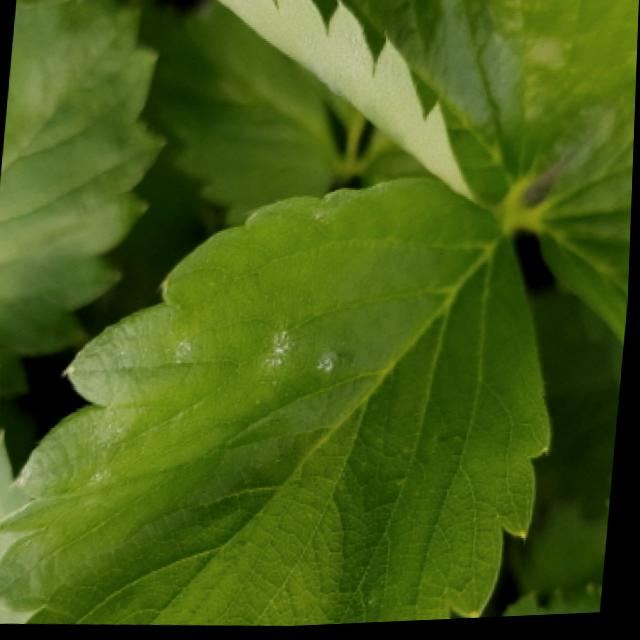Powdery Mildew Leaf: (0, 180, 555, 629)
